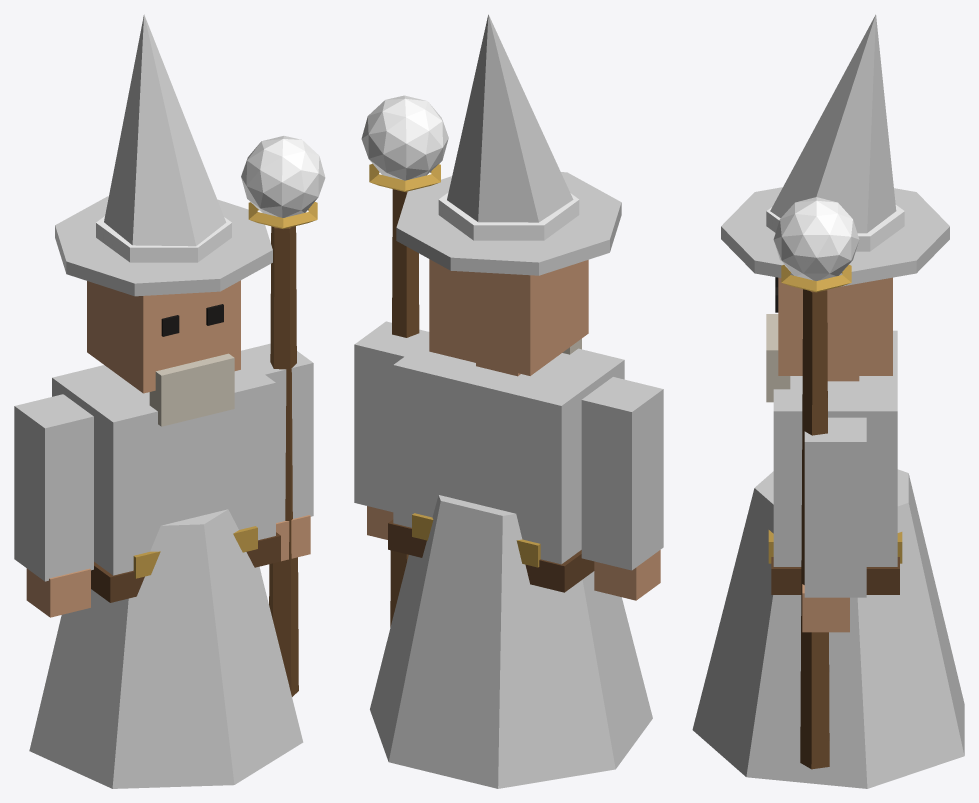
Rendered from mage.glb.
3 views of the same model, side by side, from view 1: azimuth 30°, elevation 25°; view 2: azimuth 150°, elevation 25°; view 3: azimuth 270°, elevation 25° (orthographic). The views are drawn at different scales.
Parts seen in each view (by area): view 1: body, armL, weapon, armR; view 2: body, armL, weapon, armR; view 3: body, weapon, armR.
Boxes of the visible parts, box(x1,y1,x2,y2) form: body: box(29, 14, 303, 788); armL: box(14, 394, 93, 617); weapon: box(241, 136, 325, 696); armR: box(241, 343, 313, 561); body: box(370, 14, 652, 788); armL: box(581, 377, 663, 600); weapon: box(361, 95, 448, 627); armR: box(354, 321, 429, 539); body: box(692, 14, 964, 788); weapon: box(773, 197, 859, 769); armR: box(802, 417, 866, 632).
Size of the model in its own units: 0.69 by 1.66 by 0.5703.
